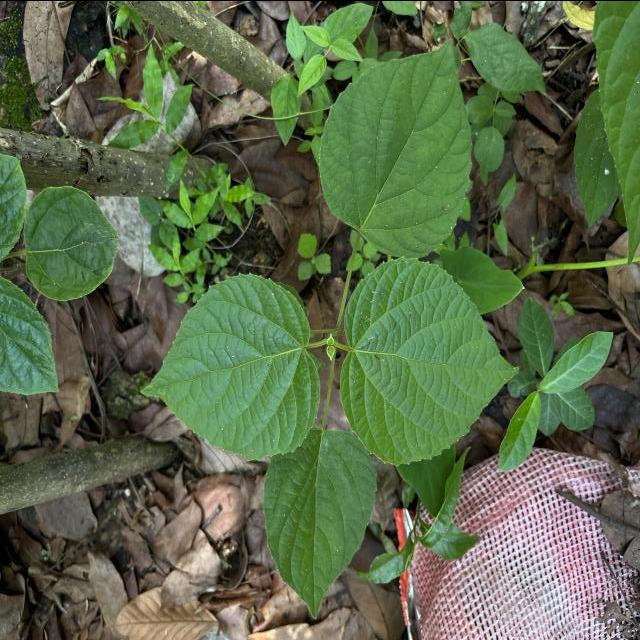Clerodendrum infortunatum: (338, 253, 522, 467), (317, 35, 475, 260), (140, 270, 322, 460), (262, 425, 379, 621)
